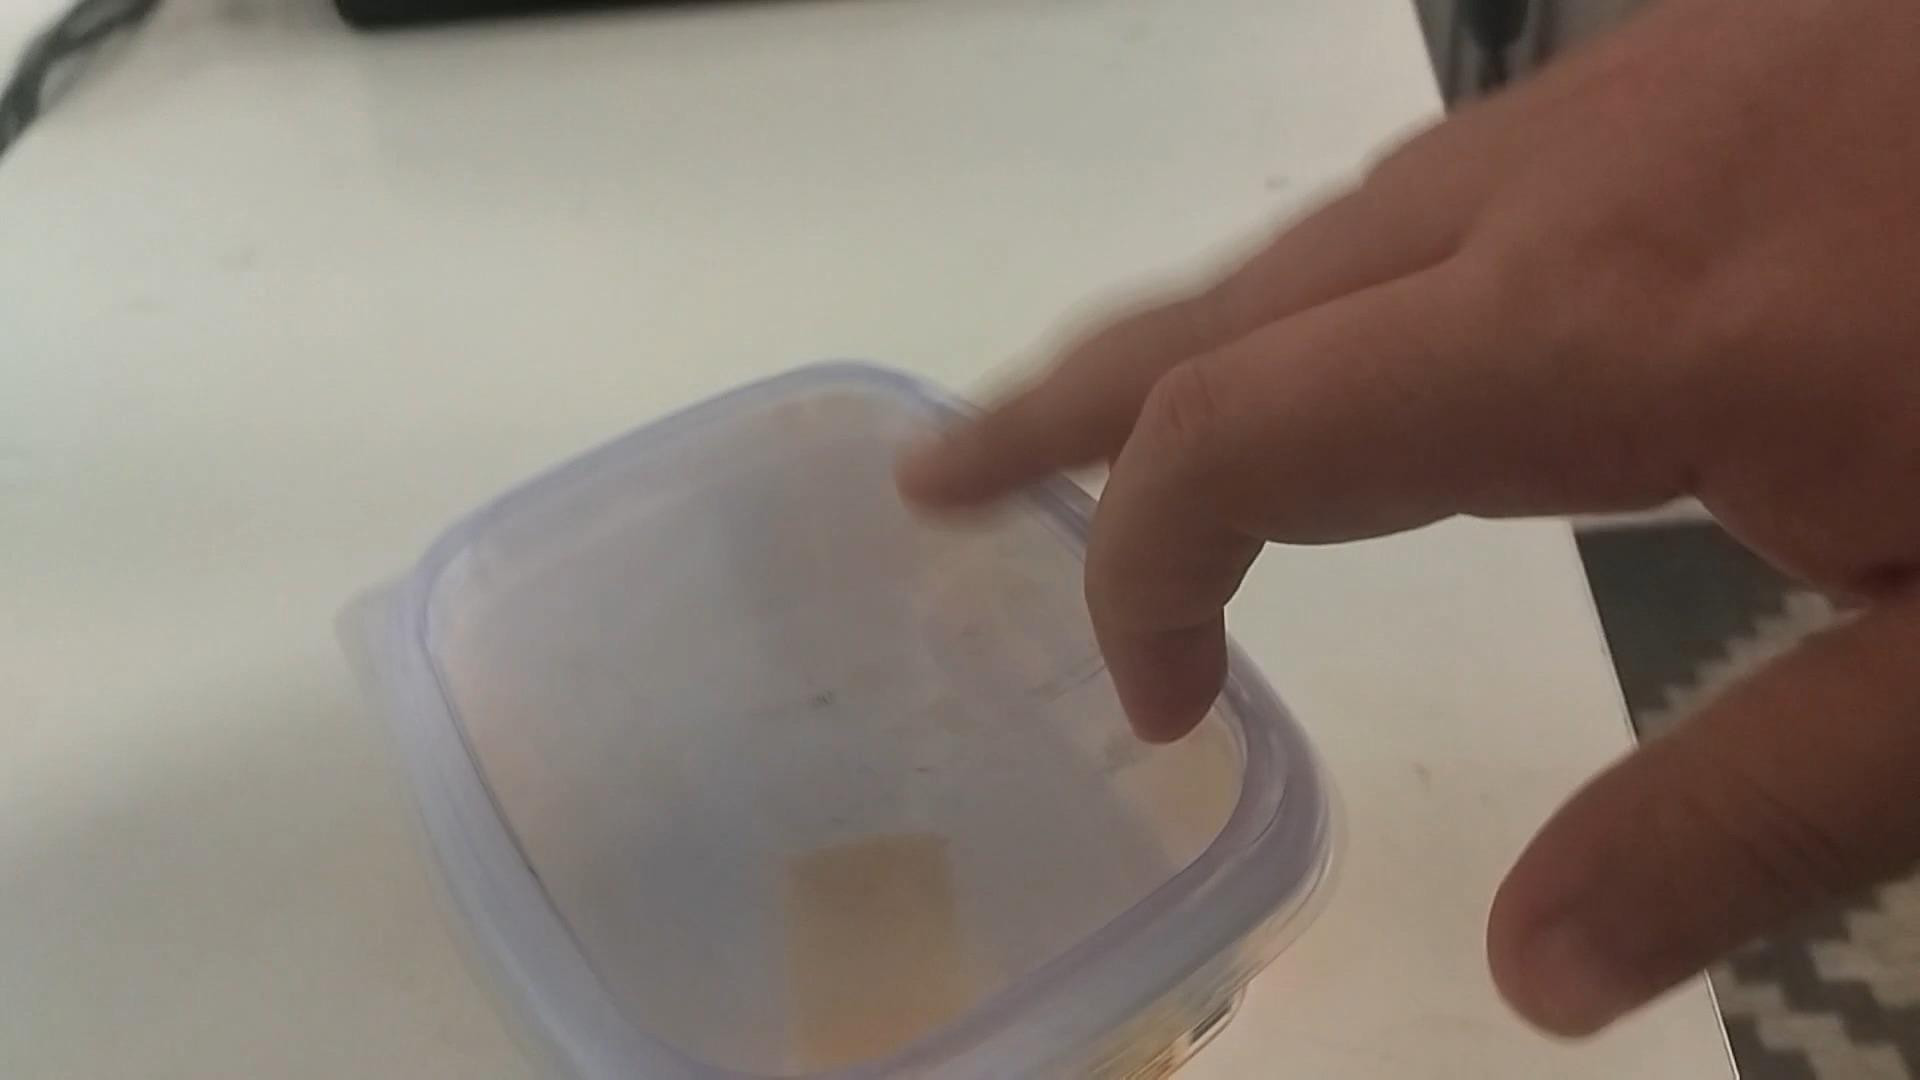butter: (356, 375, 1321, 1080)
